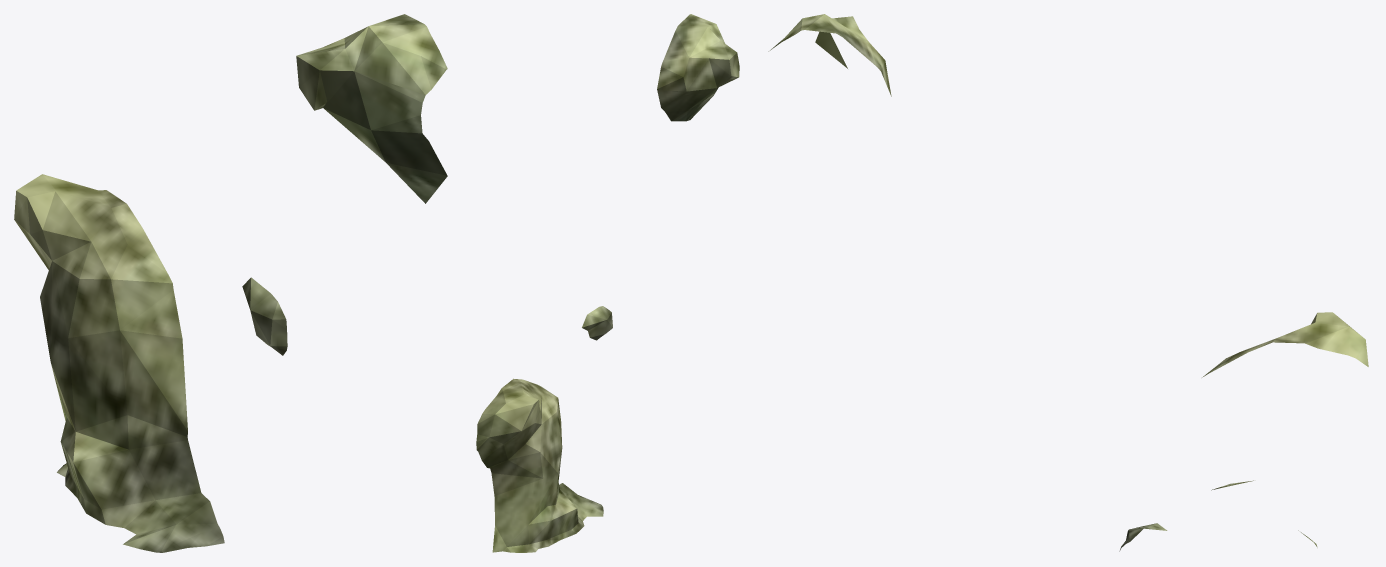
3 renders of one model, left to right at view 1: azimuth 30°, elevation 25°; view 2: azimuth 150°, elevation 25°; view 3: azimuth 270°, elevation 25°, orthographic. The views are drawn at different scales.
Bounding box in the file's own units: 0.6011 × 3.9 × 4.08.
1 material, 1 textured.
